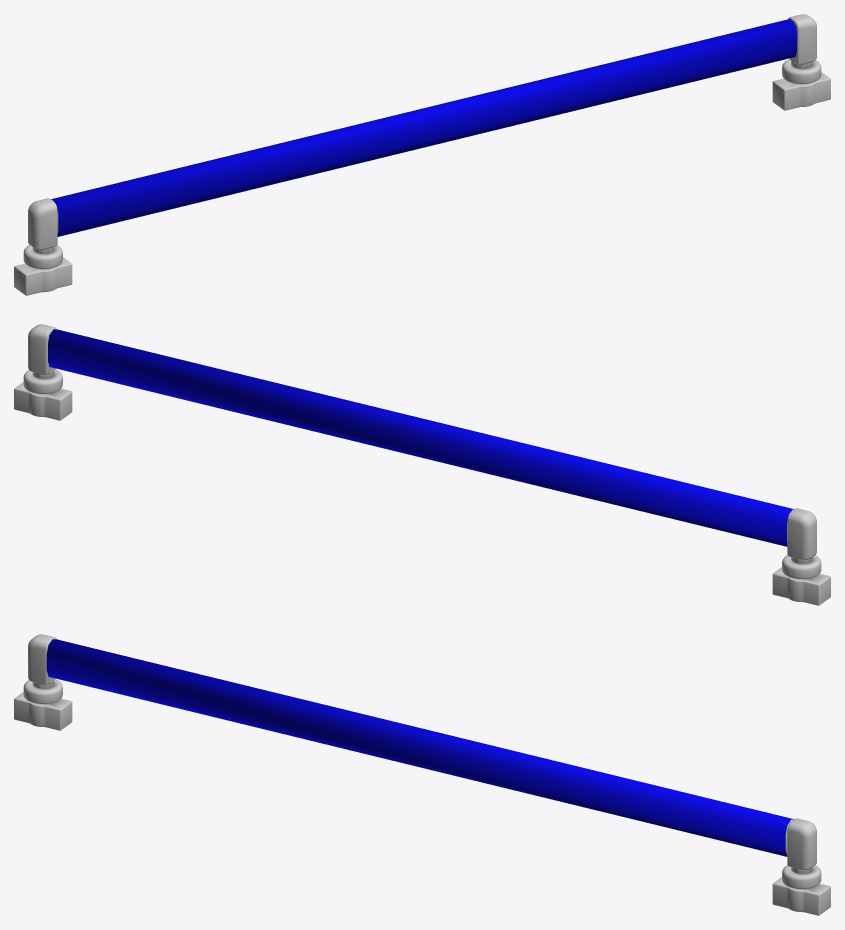
The model's file is handrail_30.dae.
3 views of the same model, one above another, from view 1: azimuth 30°, elevation 25°; view 2: azimuth 150°, elevation 25°; view 3: azimuth 330°, elevation 25° (orthographic).
Parts seen in each view (by area): view 1: handrail_30; view 2: handrail_30; view 3: handrail_30.
Boxes of the visible parts, x1,y1,x2,y2 form: handrail_30: [14, 14, 830, 295]; handrail_30: [14, 324, 830, 605]; handrail_30: [14, 634, 830, 915].
Bounding box in the file's own units: 0.7834 × 0.0331 × 0.0782.
